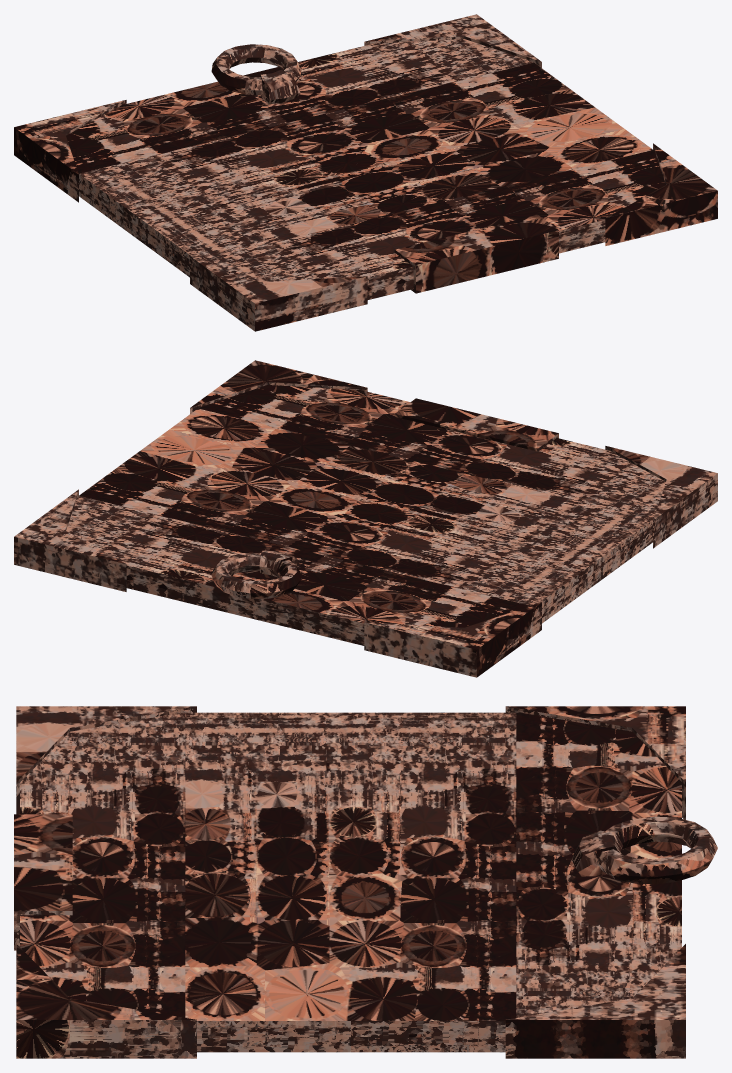
File: Alçapao.fbx
The picture shows the model from 3 angles, top to bottom: view 1: azimuth 30°, elevation 25°; view 2: azimuth 150°, elevation 25°; view 3: azimuth 270°, elevation 25°; orthographic projection. The views are drawn at different scales.
Parts seen in each view (by area): view 1: Tabua_low.001, Tabua_low.002, Tabua_low.003, Tabua_low, borda_low, popo_low, pegador_low; view 2: Tabua_low.002, Tabua_low.001, Tabua_low, Tabua_low.003, borda_low, popo_low, pegador_low; view 3: Tabua_low.001, Tabua_low.002, Tabua_low, Tabua_low.003, borda_low, pegador_low, popo_low.
Boxes of the visible parts, x1,y1,x2,y2 form: Tabua_low.001: (79,63,593,239); Tabua_low.002: (138,106,652,277); Tabua_low.003: (202,150,665,299); Tabua_low: (66,39,533,173); borda_low: (14,14,717,331); popo_low: (394,214,558,293); pegador_low: (211,44,301,104); Tabua_low.002: (139,408,652,585); Tabua_low.001: (79,452,593,623); Tabua_low: (66,496,529,645); Tabua_low.003: (198,385,665,519); borda_low: (14,360,717,677); popo_low: (394,398,558,451); pegador_low: (211,550,301,598); Tabua_low.001: (351,712,516,1052); Tabua_low.002: (185,712,350,1052); Tabua_low: (516,712,681,1017); Tabua_low.003: (20,712,185,1017); borda_low: (16,706,685,1058); pegador_low: (571,816,717,884); popo_low: (14,814,72,950).
Bounding box in the file's own units: 303 × 28.77 × 287.
